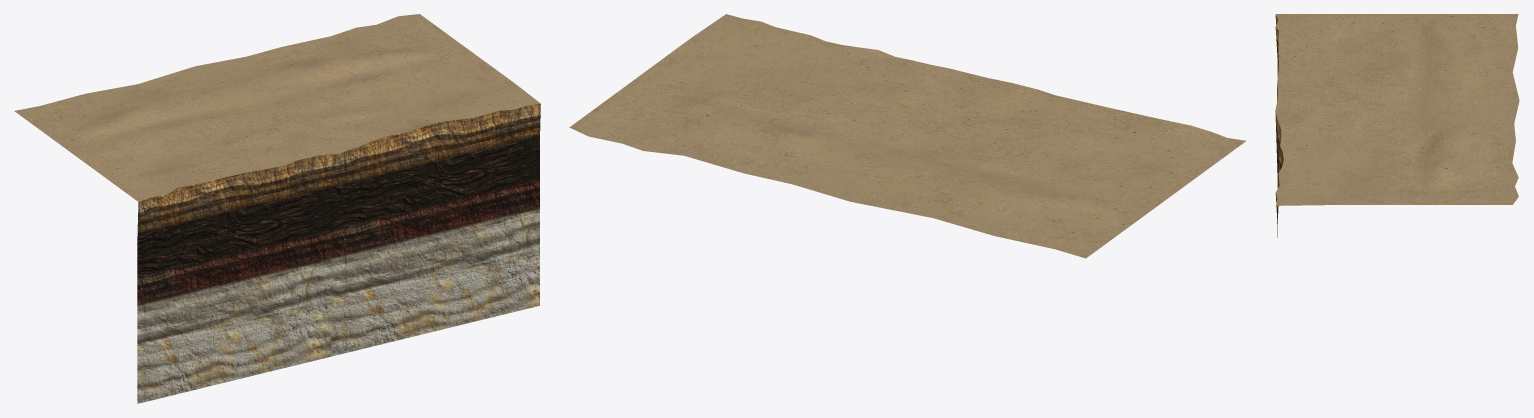
Rendered from underwater_ground.glb.
The picture shows the model from 3 angles, left to right: view 1: azimuth 30°, elevation 25°; view 2: azimuth 150°, elevation 25°; view 3: azimuth 270°, elevation 25°; orthographic projection. The views are drawn at different scales.
Visible parts, largest first — view 1: SM_MERGED_StaticMeshActor_UAID_107C612152FDD14D02_1766007591; view 2: SM_MERGED_StaticMeshActor_UAID_107C612152FDD14D02_1766007591; view 3: SM_MERGED_StaticMeshActor_UAID_107C612152FDD14D02_1766007591.
Part boxes in pixels (x1,y1,x2,y2): SM_MERGED_StaticMeshActor_UAID_107C612152FDD14D02_1766007591: (14, 14, 540, 403); SM_MERGED_StaticMeshActor_UAID_107C612152FDD14D02_1766007591: (569, 14, 1245, 258); SM_MERGED_StaticMeshActor_UAID_107C612152FDD14D02_1766007591: (1275, 14, 1519, 237).
Size of the model in its own units: 1.5 by 0.7399 by 0.8057.
Materials: 2 (2 with a texture image).
